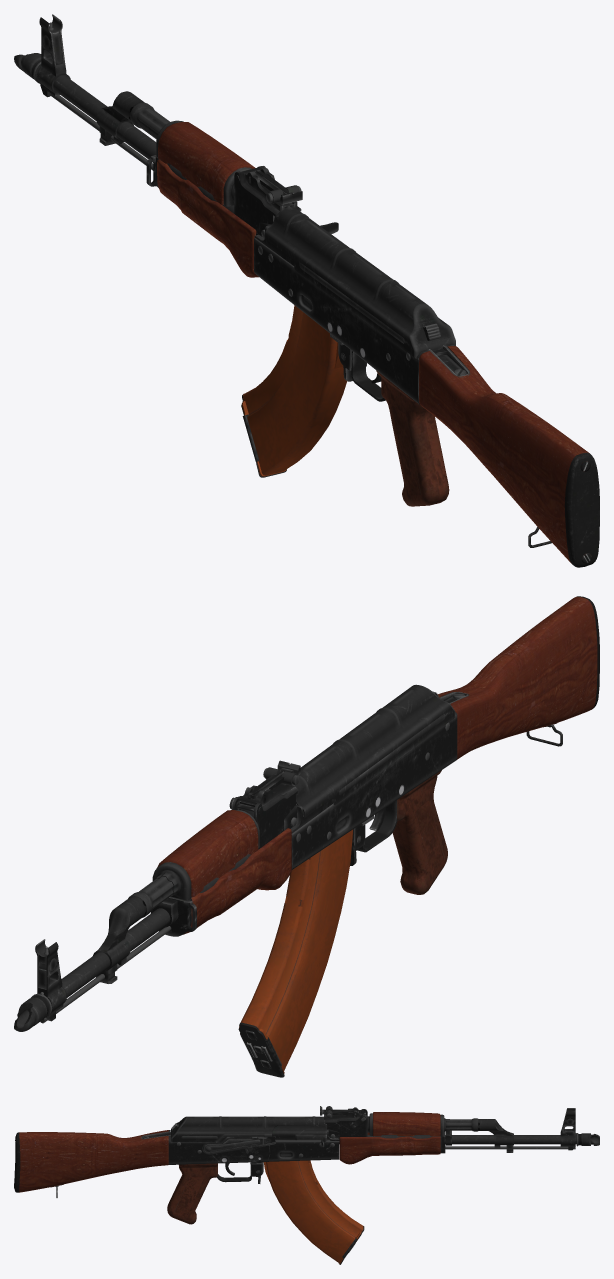
Rendered from akm.glb.
The picture shows the model from 3 angles, top to bottom: view 1: azimuth 30°, elevation 25°; view 2: azimuth 150°, elevation 25°; view 3: azimuth 270°, elevation 25°; orthographic projection. The views are drawn at different scales.
Parts seen in each view (by area): view 1: akm_body, mag; view 2: akm_body, mag; view 3: akm_body, mag.
Boxes of the visible parts, x1=… form: akm_body: x1=14, y1=14, x2=599, y2=567; mag: x1=241, y1=305, x2=347, y2=477; akm_body: x1=14, y1=596, x2=599, y2=1031; mag: x1=238, y1=829, x2=353, y2=1077; akm_body: x1=14, y1=1106, x2=599, y2=1224; mag: x1=263, y1=1160, x2=364, y2=1264.
Size of the model in its own units: 0.0682 by 0.2588 by 0.8953.
3 materials, 3 textured.
